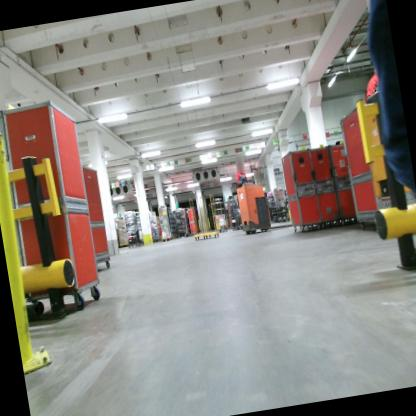pallet_truck: (231, 175, 278, 242)
